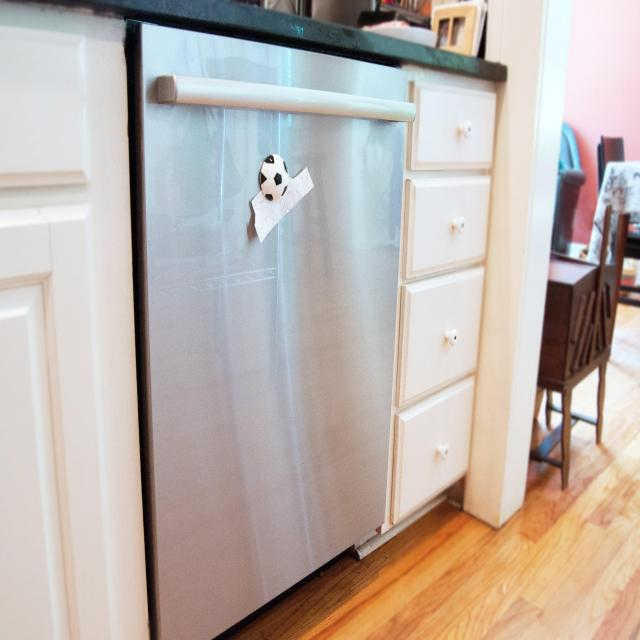dishwasher: (115, 9, 396, 640)
